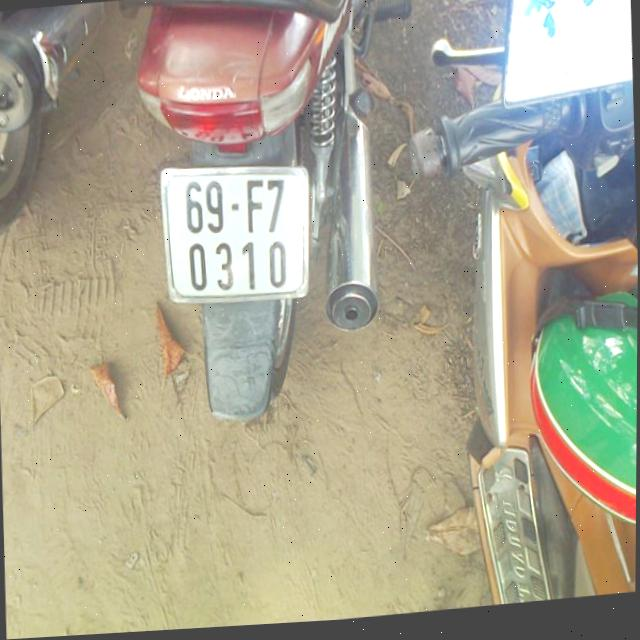motorcycle: (115, 0, 398, 440)
plate: (157, 148, 315, 311)
